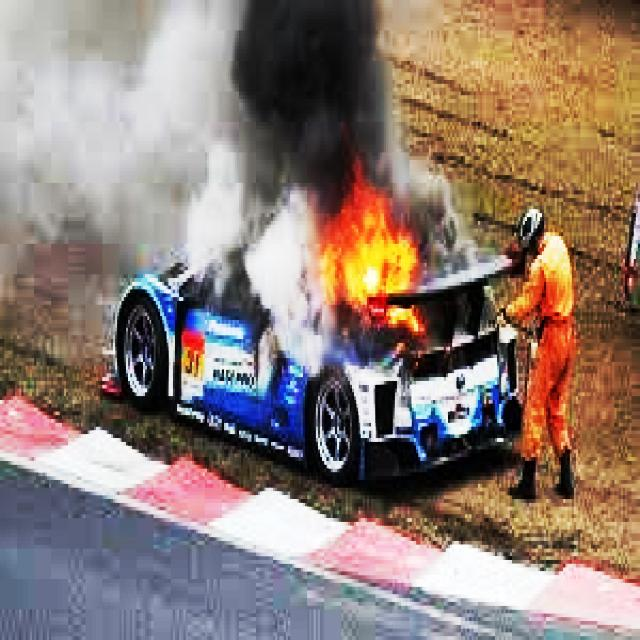api: (300, 127, 432, 340)
